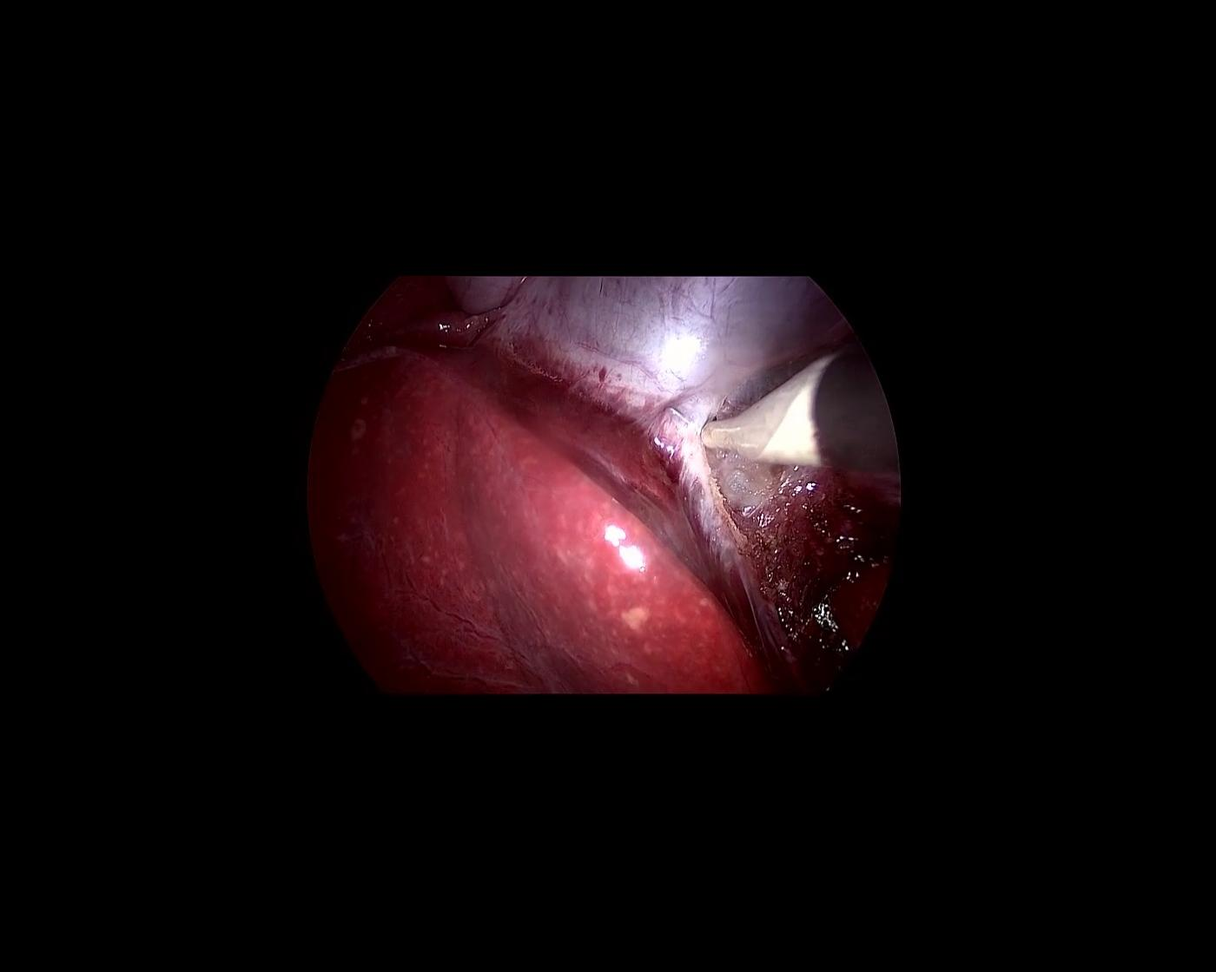Cautery: (658, 349, 898, 508)
Gallbladder: (444, 271, 851, 419)
Liver: (310, 274, 777, 698)
